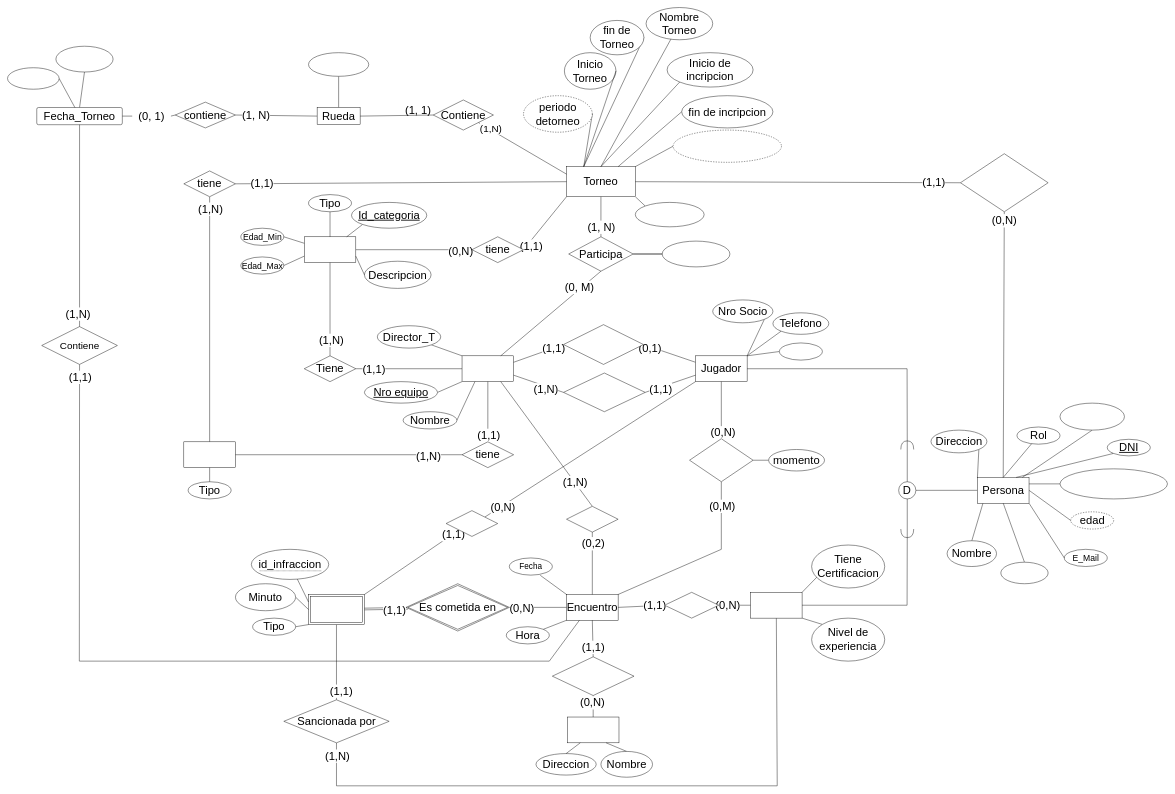
Image size: 1175x794. Some labels were removed from this diagram. The centre of each missing label's shape, as x and y in pixels:
Apellido: point (1024, 573)
Arbitro: point (776, 605)
Cancha: point (593, 730)
Cant_rueda: point (669, 214)
Categoria: point (330, 249)
comete: point (472, 523)
contraseña: point (1092, 416)
Date: point (33, 78)
Dirige: point (691, 605)
Division: point (209, 454)
Encargado Habilita: point (1004, 182)
Equipo: point (488, 368)
Fecha_nacimiento: point (1113, 483)
foto: point (800, 351)
hace_gol: point (721, 460)
Infraccion: point (336, 609)
juega: point (592, 519)
Nro_Rueda: point (338, 64)
Numero: point (84, 59)
periodo de incripcion: point (727, 146)
Pertenece: point (604, 392)
Puntos: point (696, 254)
Representa: point (603, 344)
Se realiza en: point (593, 676)
